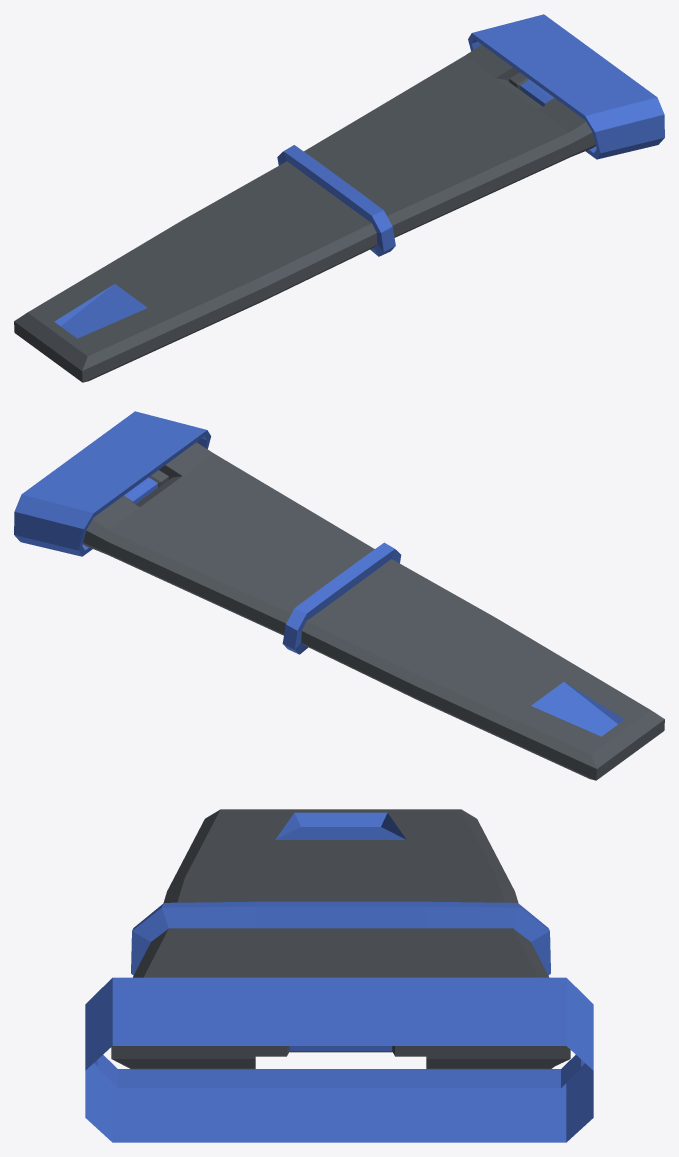
The model's file is Fighter_04_Small_Wing_Right_Blue.fbx.
The picture shows the model from 3 angles, top to bottom: view 1: azimuth 30°, elevation 25°; view 2: azimuth 150°, elevation 25°; view 3: azimuth 270°, elevation 25°; orthographic projection. The views are drawn at different scales.
Parts seen in each view (by area): view 1: Fighter_04_Small_Wing_Right_Blue; view 2: Fighter_04_Small_Wing_Right_Blue; view 3: Fighter_04_Small_Wing_Right_Blue.
Boxes of the visible parts, x1,y1,x2,y2 form: Fighter_04_Small_Wing_Right_Blue: (14,14,664,382); Fighter_04_Small_Wing_Right_Blue: (14,411,664,780); Fighter_04_Small_Wing_Right_Blue: (85,809,593,1142).
Size of the model in its own units: 488 by 145 by 194.
1 material, 1 textured.
